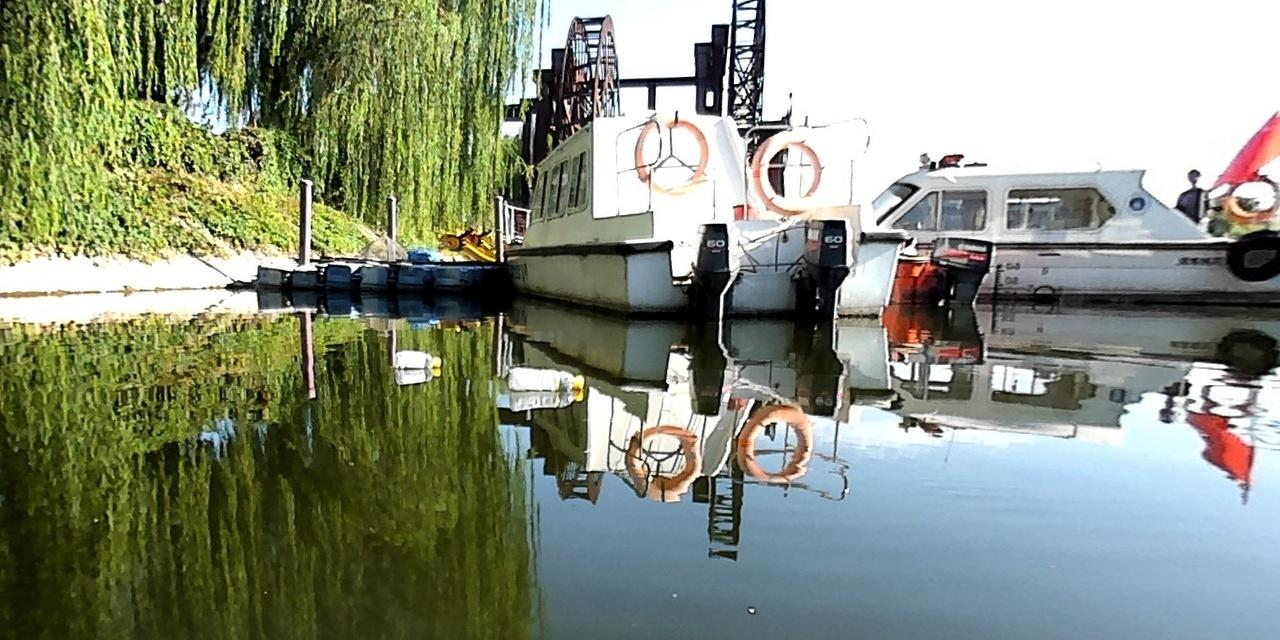bottle: (507, 366, 583, 391), (390, 348, 440, 367)
